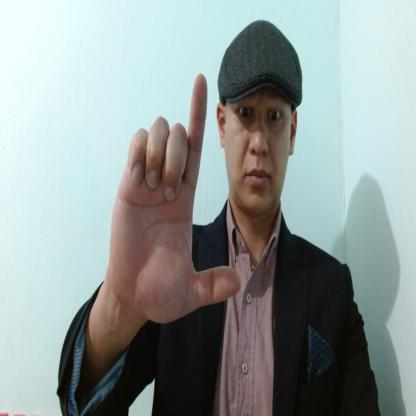L: (111, 73, 240, 323)
